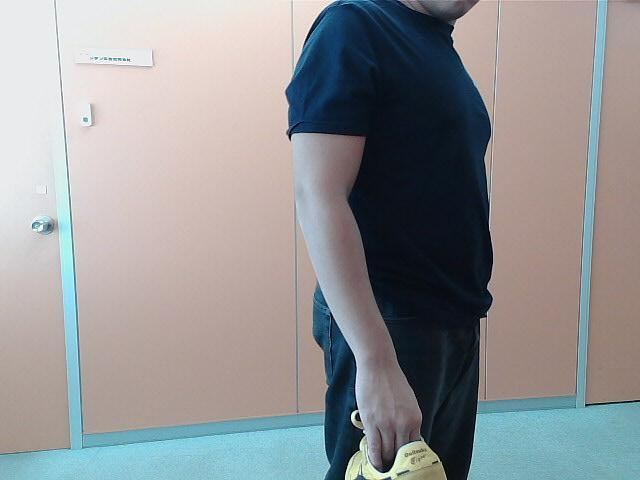Shoes: (339, 408, 455, 480)
